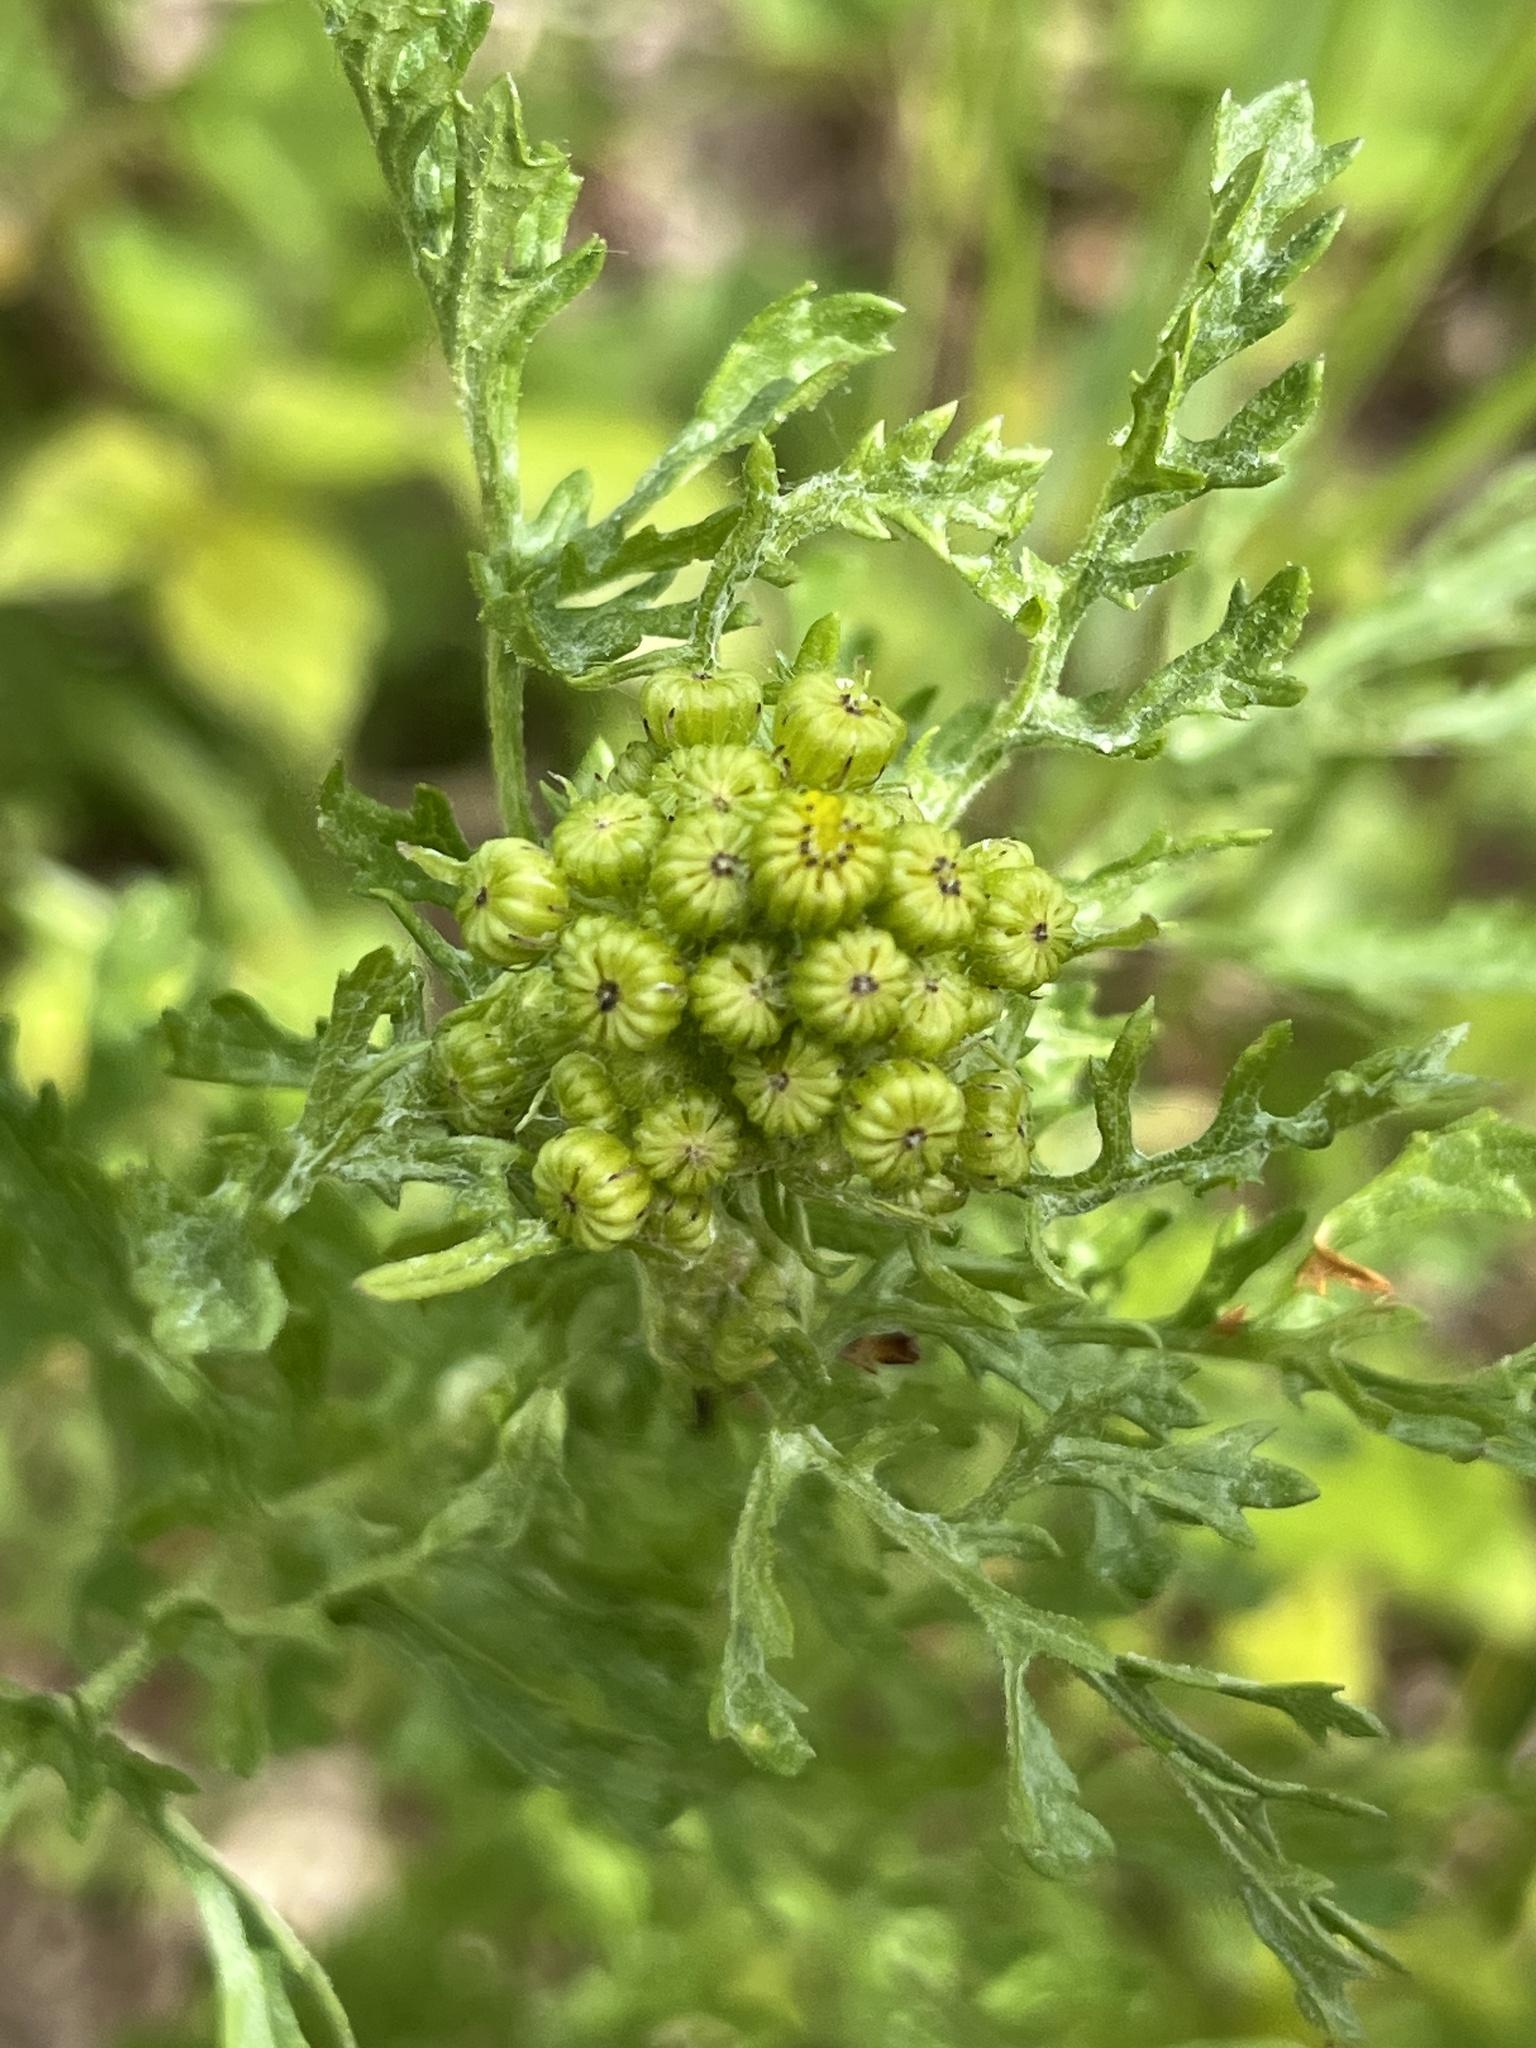Jacobaea vulgaris: (73, 27, 1476, 1921)
